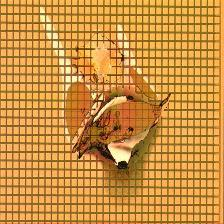PARTICLE: (60, 30, 175, 177)
